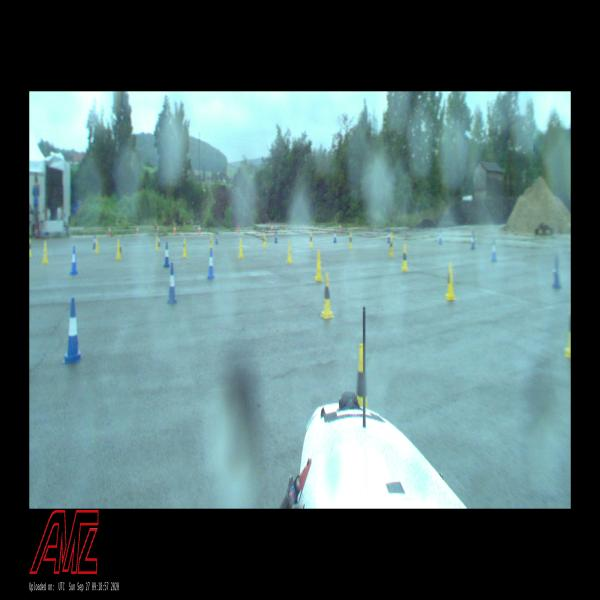blue_cone: (65, 300, 81, 361), (168, 263, 176, 304), (552, 256, 560, 288), (207, 249, 214, 279), (70, 246, 77, 274), (164, 242, 170, 267), (491, 242, 497, 261), (470, 232, 475, 249), (92, 236, 96, 249), (439, 231, 442, 244), (215, 232, 218, 244), (334, 232, 336, 242), (388, 232, 390, 242), (275, 234, 277, 242)
orange_cone: (108, 225, 111, 236), (173, 224, 176, 234), (136, 225, 139, 234), (271, 222, 273, 232), (199, 225, 200, 232)
yellow_cone: (357, 344, 368, 408), (320, 273, 334, 319), (445, 264, 455, 298), (565, 310, 571, 355), (315, 249, 322, 281), (402, 244, 409, 270), (42, 242, 48, 264), (286, 242, 292, 263), (115, 240, 120, 260), (390, 234, 394, 256), (239, 238, 243, 258), (182, 238, 186, 257), (309, 232, 313, 248), (262, 234, 266, 247), (349, 233, 352, 248), (30, 238, 32, 257), (95, 241, 98, 253)
